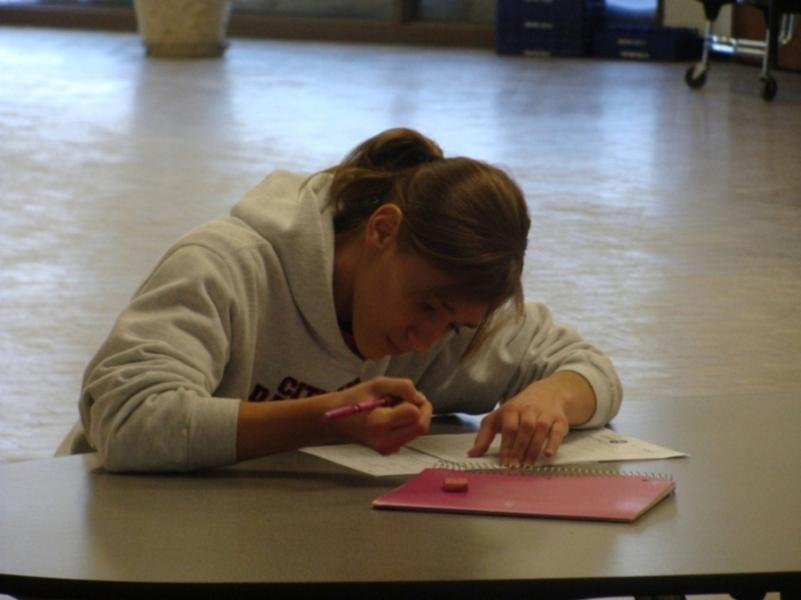person: (51, 124, 624, 470)
